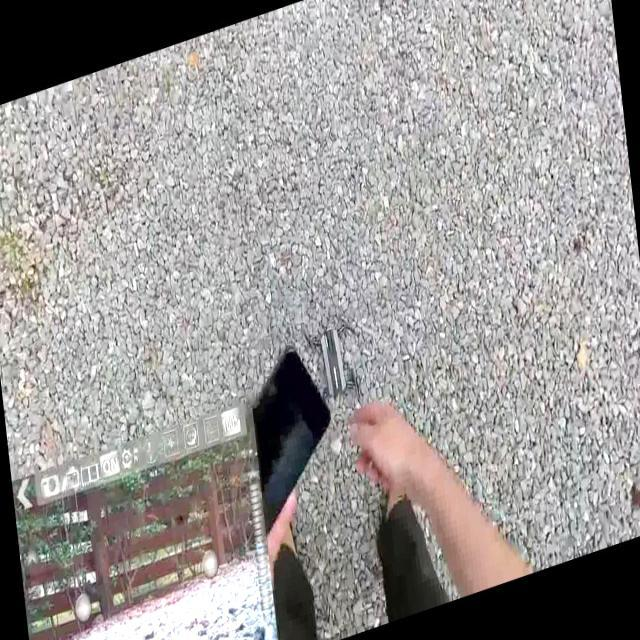drone: (304, 298, 362, 414)
